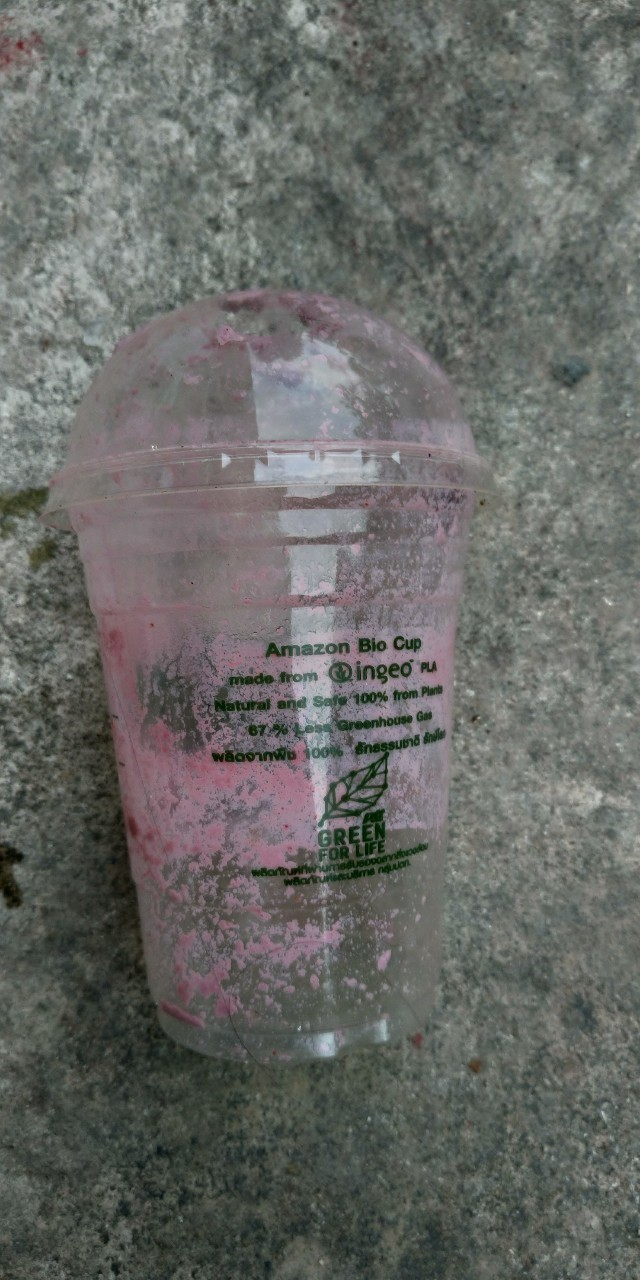PlasticCup: (50, 282, 493, 1063)
